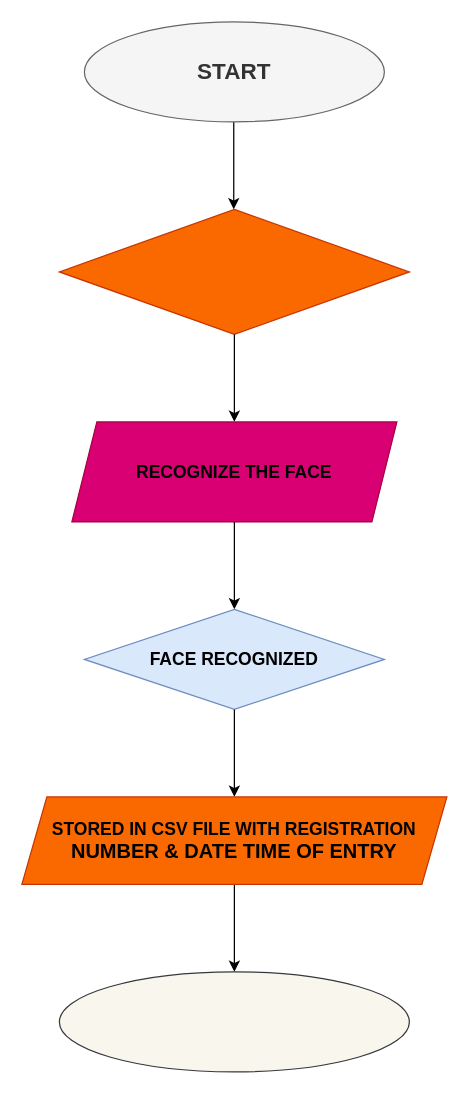
This 469x1094 diagram has some shape labels left out. Here are the shapes that lost their labels. From the top down, the centre of each, then its label:
At (233,271): "NEW USER".
At (233,1021): "END".
